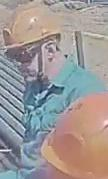goggles: (2, 43, 47, 63)
helmet: (40, 91, 108, 179), (2, 6, 61, 50)
vest: (22, 59, 105, 178)
